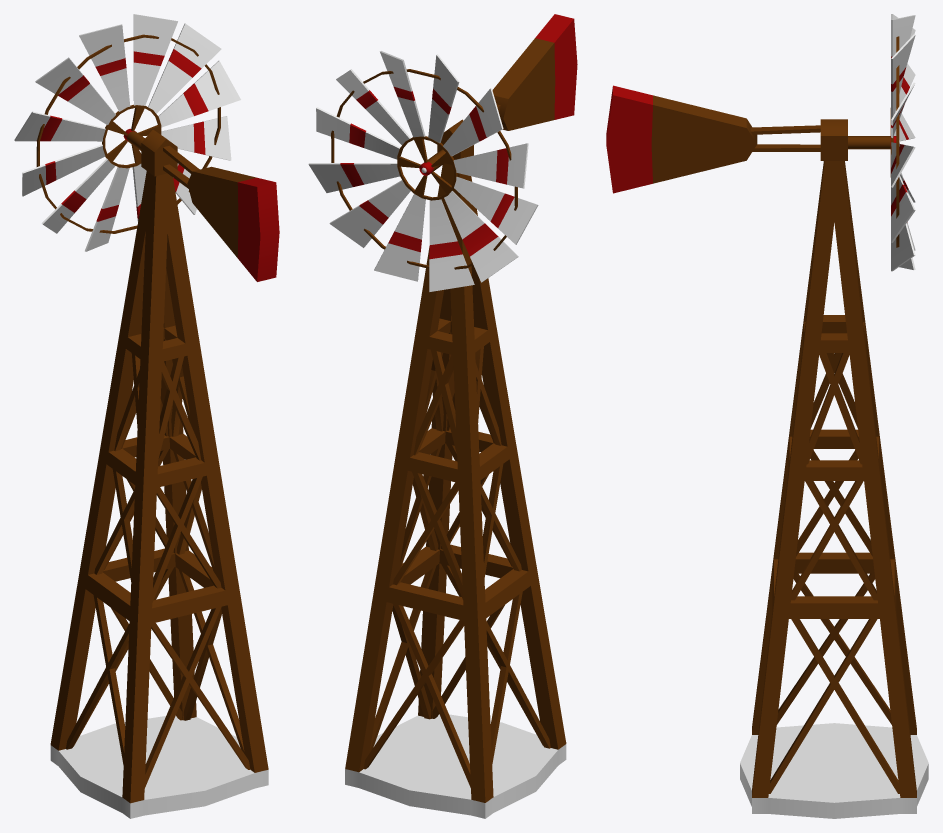
The model's file is Windmill.fbx.
3 renders of one model, left to right at view 1: azimuth 30°, elevation 25°; view 2: azimuth 150°, elevation 25°; view 3: azimuth 270°, elevation 25°, orthographic. The views are drawn at different scales.
Visible parts, largest first — view 1: Barn:pPipe5; view 2: Barn:pPipe5; view 3: Barn:pPipe5.
Part boxes in pixels (<box>): Barn:pPipe5: <box>14,14,279,818</box>; Barn:pPipe5: <box>308,14,577,818</box>; Barn:pPipe5: <box>606,14,928,818</box>.
Size of the model in its own units: 408 by 1304 by 505.
